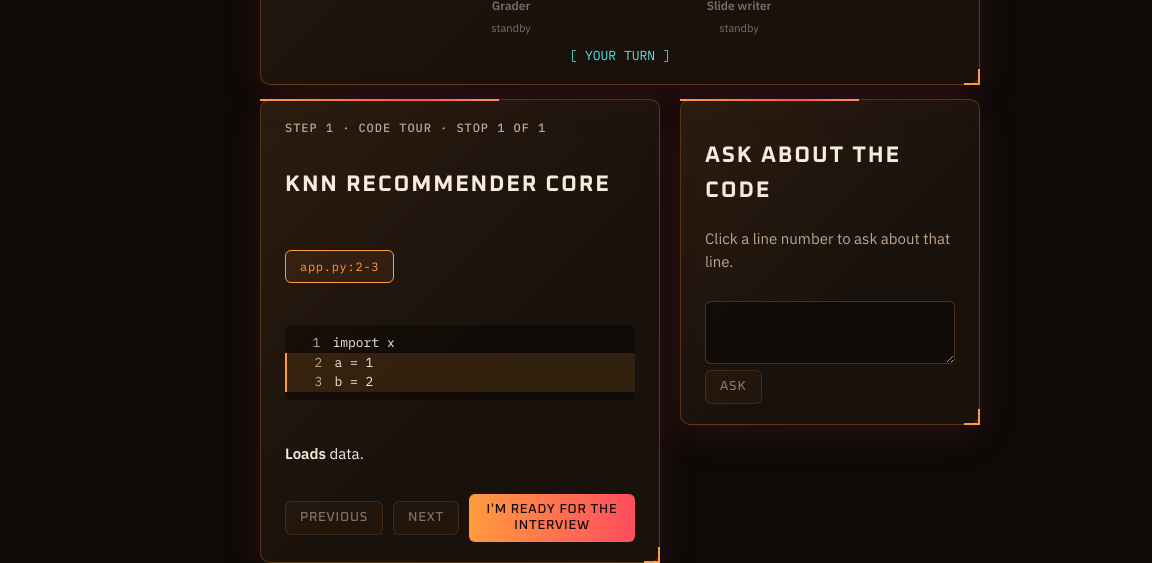
Test: MissionControl › tours the committed code, highlights lines, then opens the interview
This screenshot has width=1152, height=563.
(page scrolled)
expect the text "a = 1" is shown: met, box [334,353,373,372]
Click the button named "Ask about line 2".
click(311, 363)  # box [299,353,322,372]
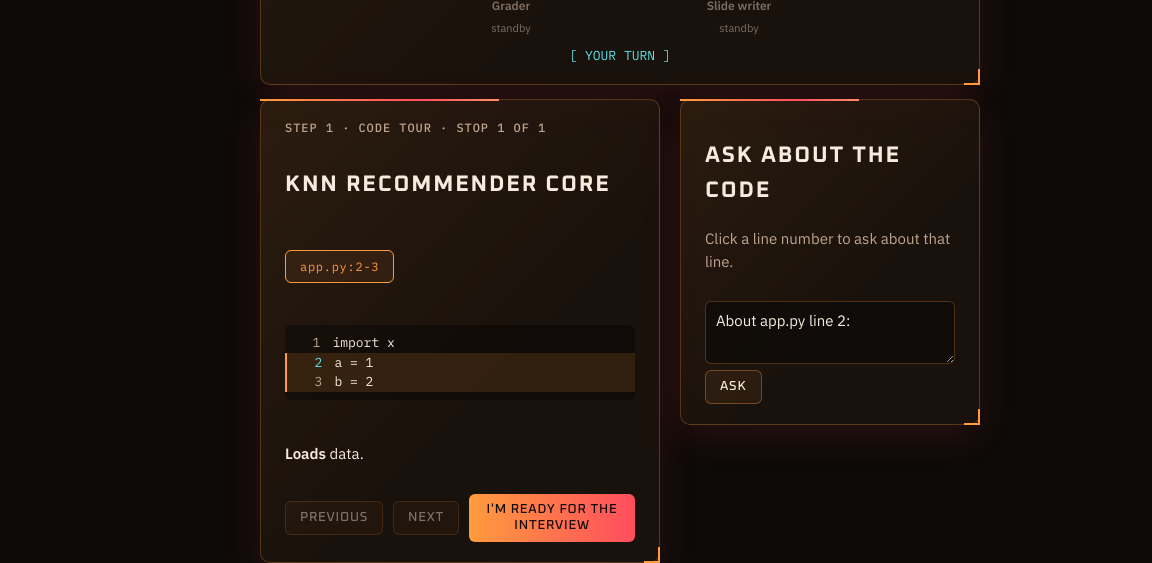
expect the text box named "Your question" holds "About app.py line 2: ": met, box [705,301,955,364]
Click the button "I'm ready for the interview".
click(552, 518)  # box [469,494,635,542]
(page scrolled)
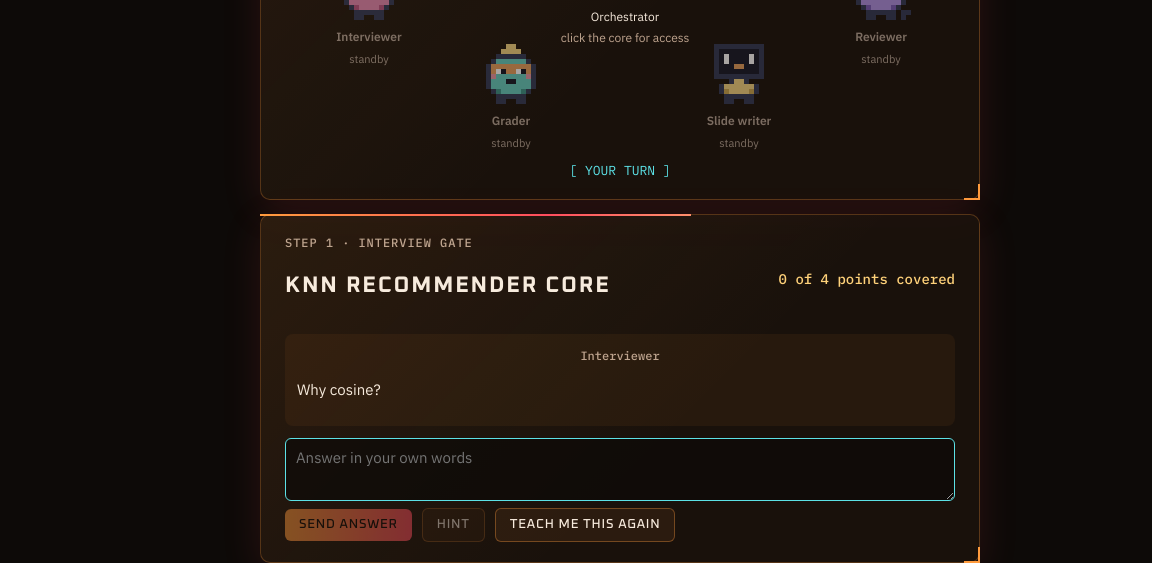
expect the text "Why cosine?" is shown: met, box [297,380,381,400]
expect the text "0 of 4 points covered" is shown: met, box [779,270,955,288]
